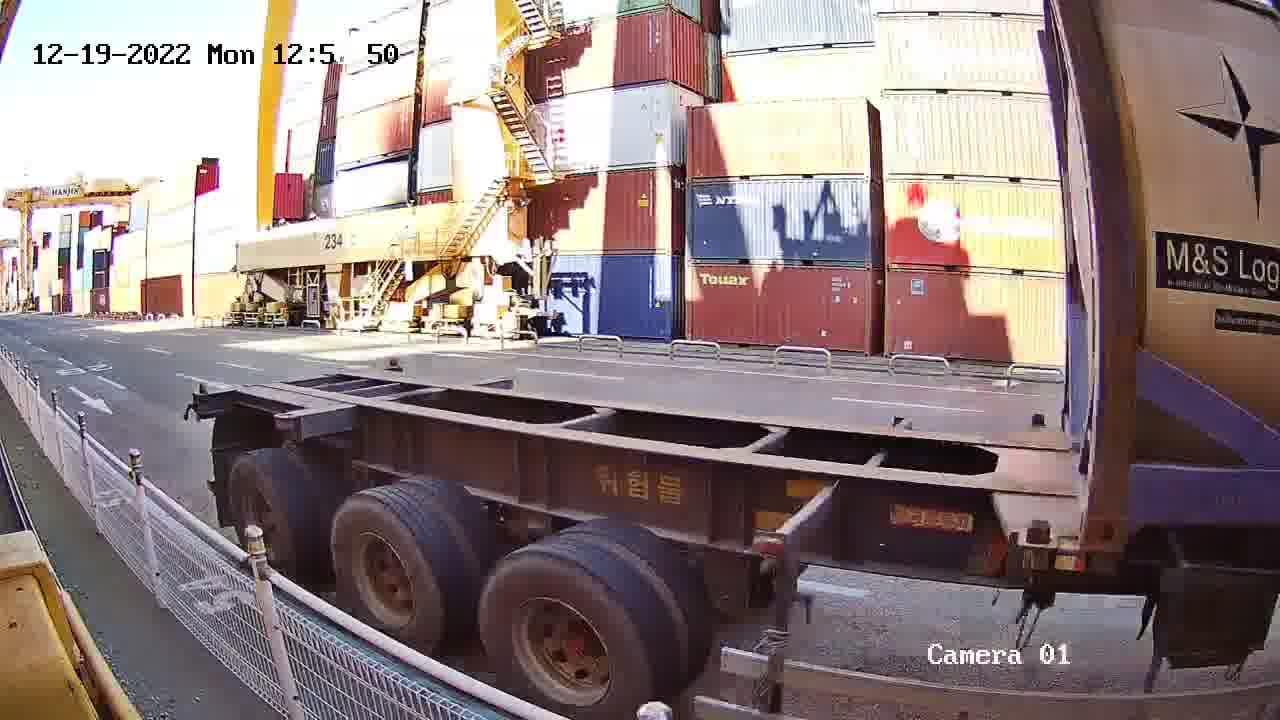Chassis: (992, 427, 1056, 549)
Cone: (1018, 520, 1055, 579), (1089, 551, 1125, 580), (1026, 412, 1050, 429)
Hole_L: (1084, 480, 1162, 553)
Tire: (480, 555, 652, 718), (331, 495, 438, 645), (229, 459, 300, 571)
